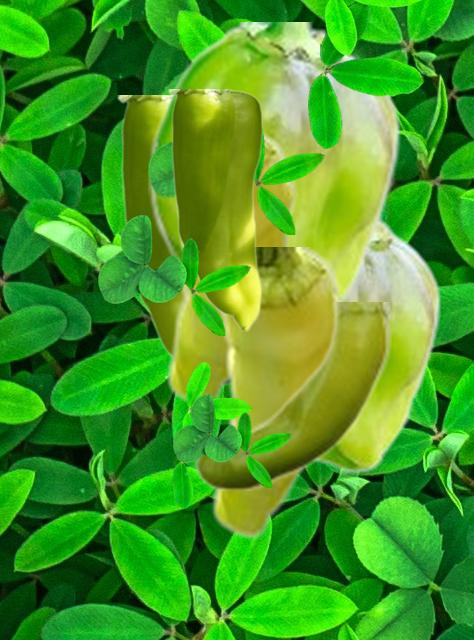green_chili: (148, 22, 401, 301), (210, 247, 346, 539), (192, 302, 393, 489), (165, 129, 296, 407), (316, 217, 441, 473), (167, 89, 261, 330), (116, 95, 180, 356)
